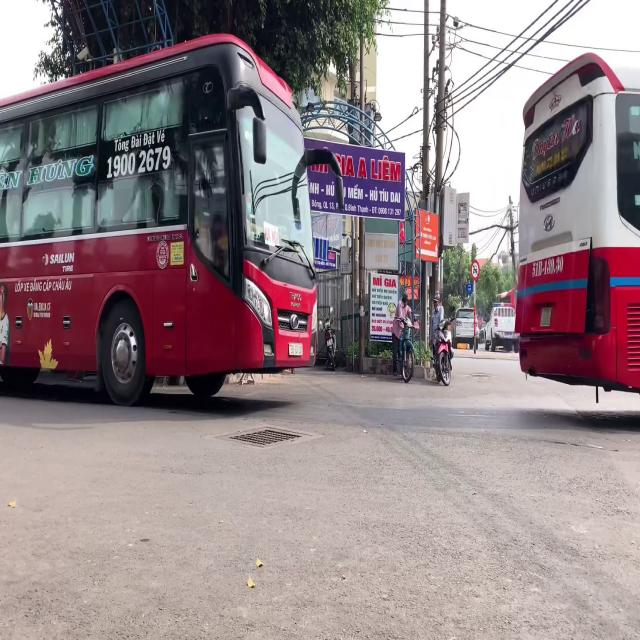bien_trang: (287, 343, 303, 358)
